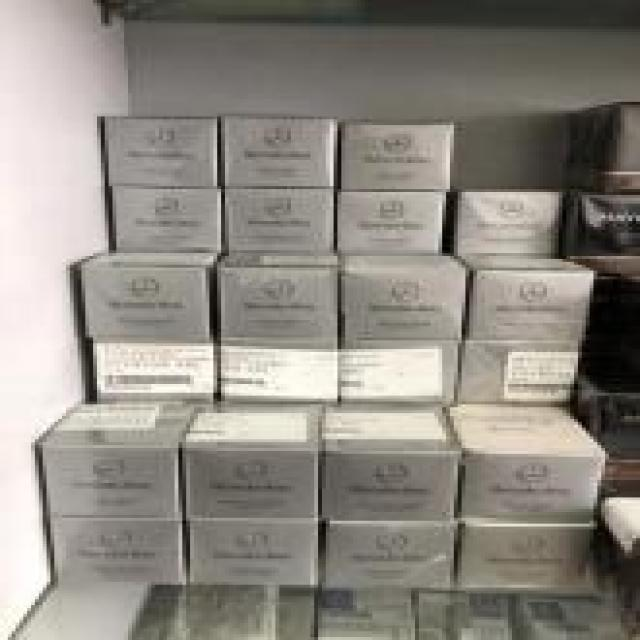box: (35, 401, 202, 518), (450, 404, 609, 524), (318, 404, 462, 521), (182, 404, 322, 518), (78, 250, 217, 343), (458, 256, 593, 340), (337, 253, 465, 337), (458, 518, 597, 591), (221, 253, 337, 337), (50, 518, 186, 585), (322, 521, 458, 588), (186, 521, 318, 588), (105, 116, 217, 189), (225, 116, 337, 189), (337, 340, 462, 404), (458, 340, 582, 404), (341, 122, 454, 192), (221, 337, 337, 404), (93, 340, 213, 404), (454, 189, 562, 256), (112, 186, 221, 250), (225, 189, 334, 253), (337, 192, 446, 253), (562, 102, 640, 172), (562, 189, 640, 256)
